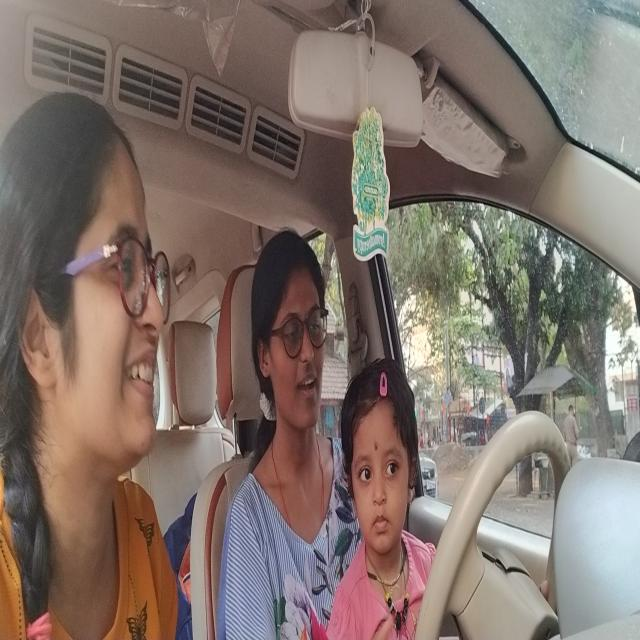child: (338, 344, 422, 554)
person: (1, 92, 177, 491), (252, 226, 332, 443)
